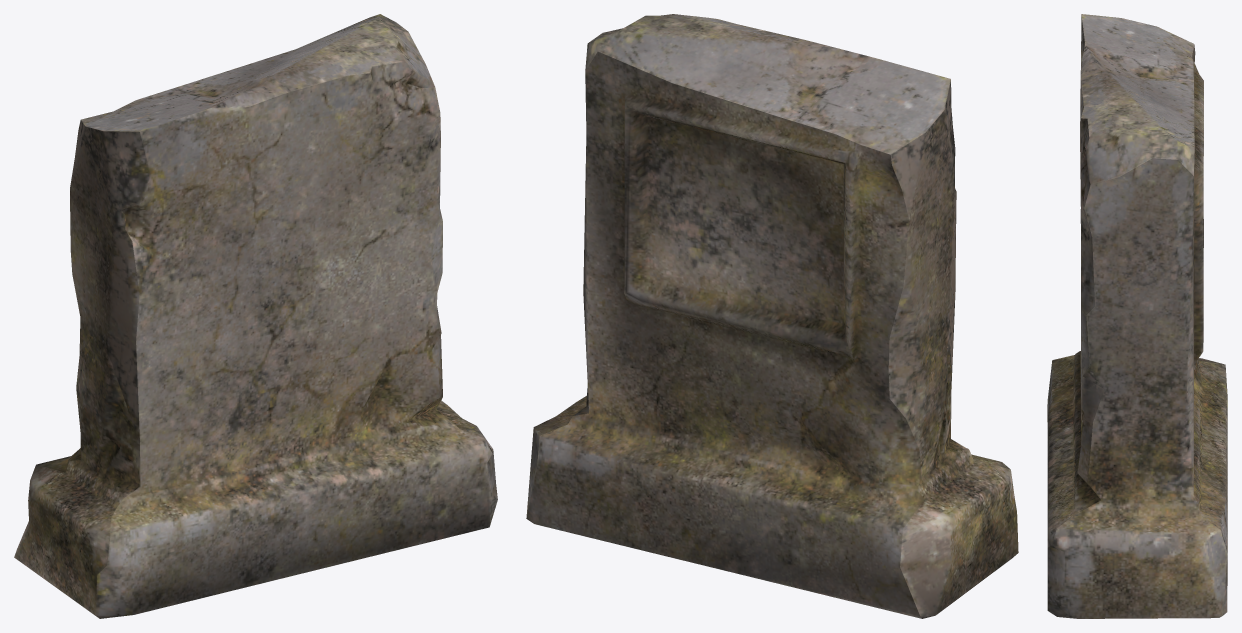
Rendered from SM_TombStone01.FBX.
3 views of the same model, side by side, from view 1: azimuth 30°, elevation 25°; view 2: azimuth 150°, elevation 25°; view 3: azimuth 270°, elevation 25° (orthographic). The views are drawn at different scales.
Visible parts, largest first — view 1: SM_TombStone01; view 2: SM_TombStone01; view 3: SM_TombStone01.
Boxes of the visible parts, x1,y1,x2,y2 form: SM_TombStone01: (14,14,497,618); SM_TombStone01: (526,14,1018,618); SM_TombStone01: (1047,14,1227,618).
Size of the model in its own units: 124 by 50.47 by 141.
